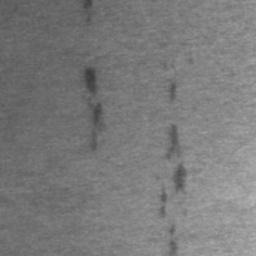Iron scale compression: (92, 102, 103, 150), (166, 123, 180, 160), (174, 163, 186, 194), (84, 67, 97, 95), (160, 180, 167, 217), (84, 0, 93, 25), (170, 77, 177, 106), (170, 241, 178, 256), (170, 223, 176, 236)
